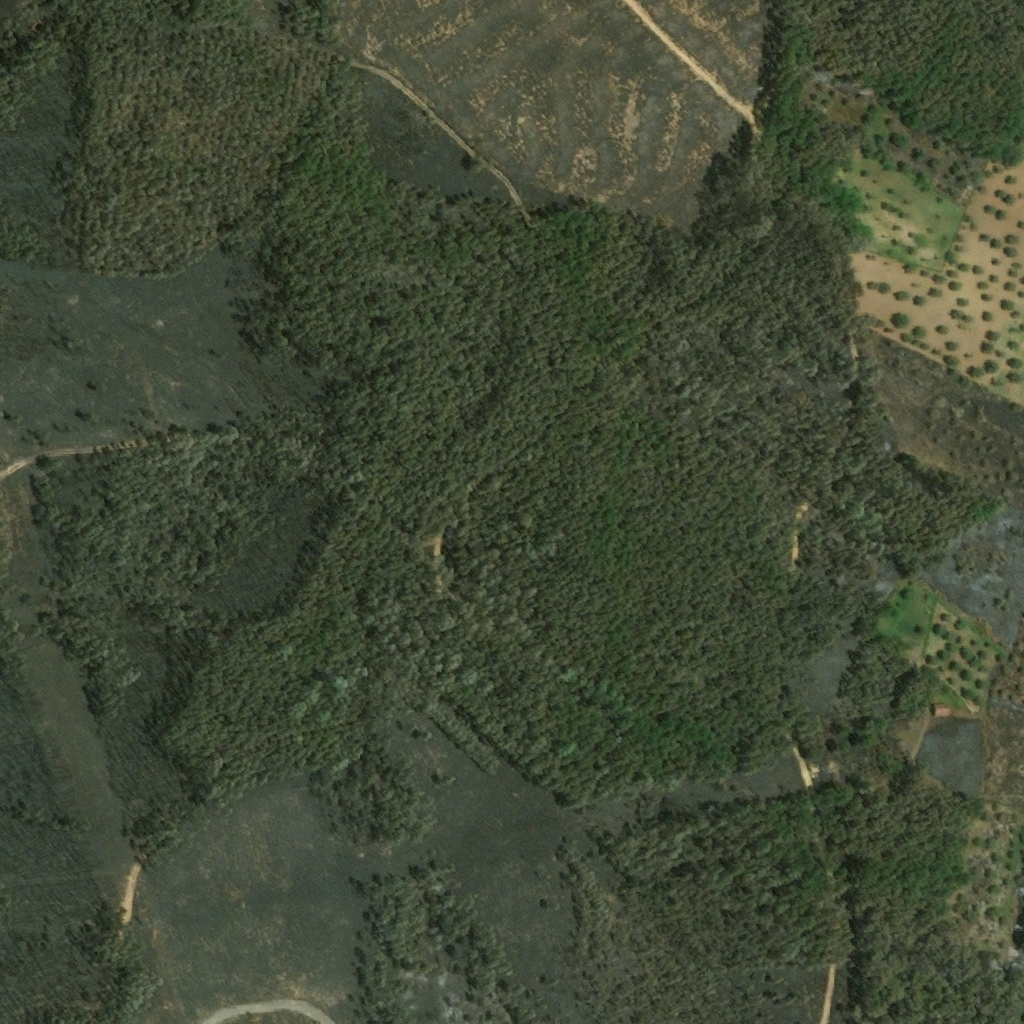0 no-damage: (930, 703, 951, 717)
